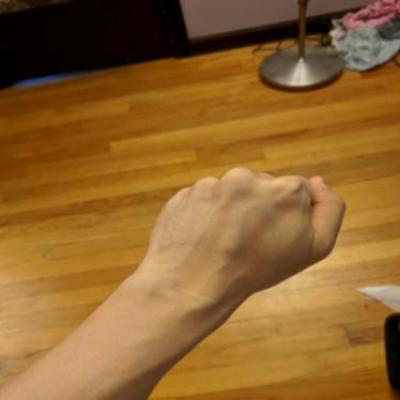hand: (136, 161, 350, 306)
